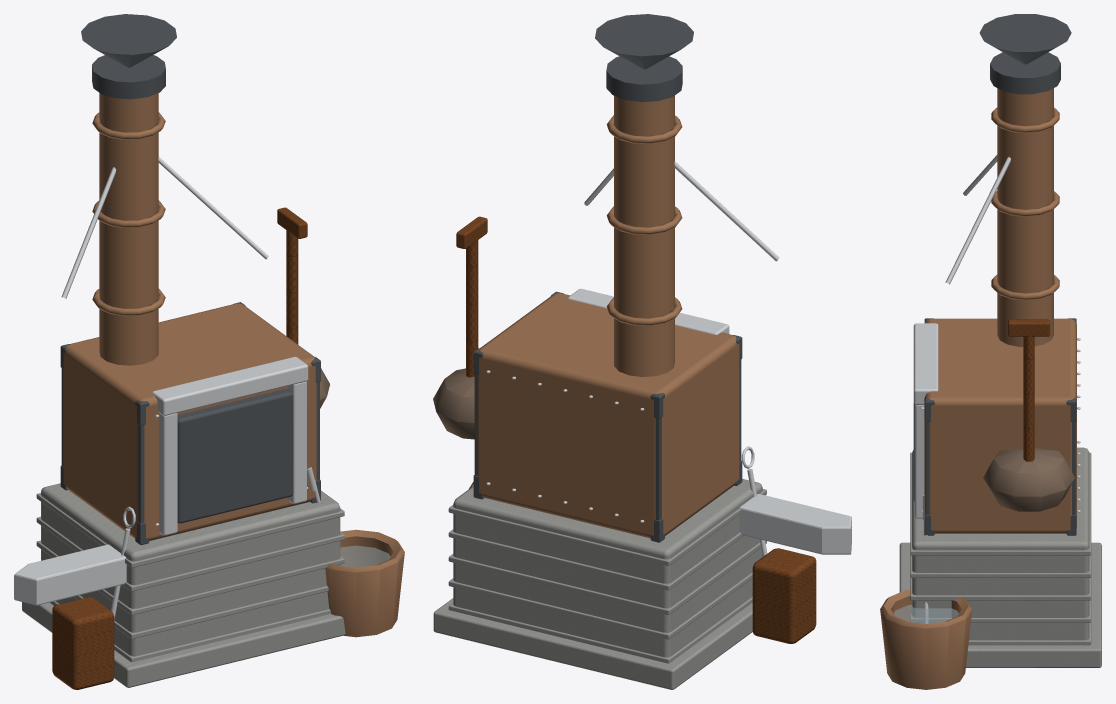
Rendered from fps-survival-forest-outpost-forge-furnace-0f59b719__32624.glb.
3 renders of one model, left to right at view 1: azimuth 30°, elevation 25°; view 2: azimuth 150°, elevation 25°; view 3: azimuth 270°, elevation 25°, orthographic. The views are drawn at different scales.
Parts seen in each view (by area): view 1: forge-furnace, lever; view 2: forge-furnace, lever; view 3: forge-furnace, lever.
Part boxes in pixels (<box>): forge-furnace: <box>14,14,404,689</box>; lever: <box>277,207,307,344</box>; forge-furnace: <box>433,14,851,689</box>; lever: <box>456,216,487,377</box>; forge-furnace: <box>880,14,1101,689</box>; lever: <box>1008,319,1050,461</box>.
Size of the model in its own units: 2.31 by 3.48 by 1.25.
8 materials, 2 textured.
